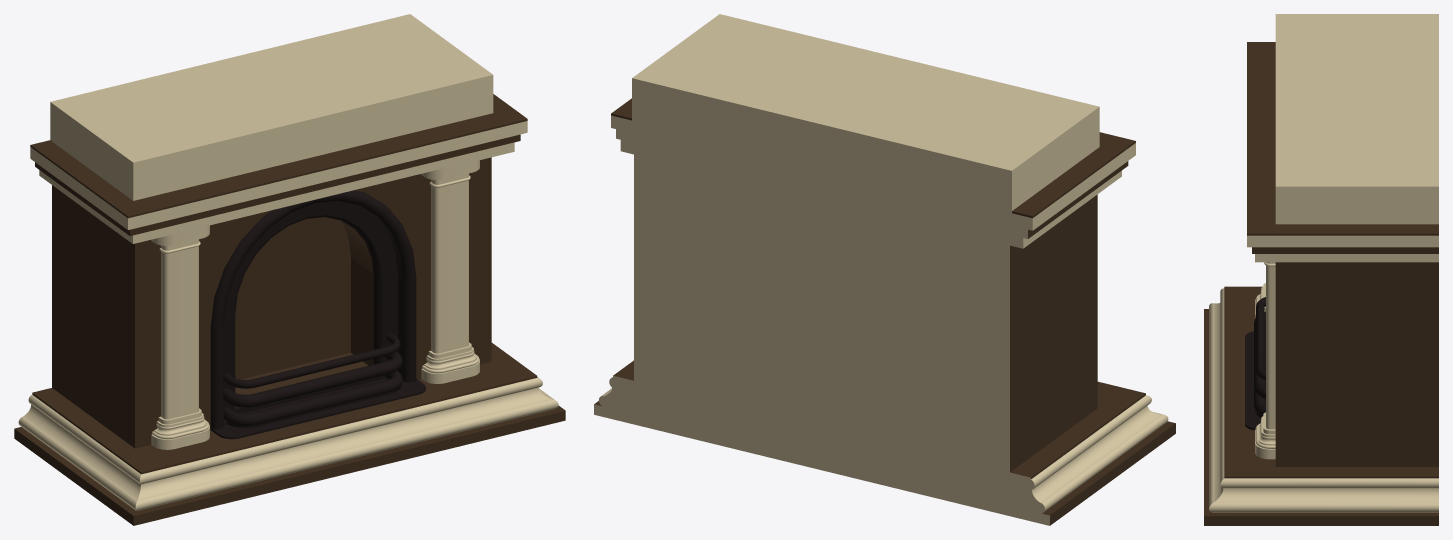
Rendered from antique_fireplace.glb.
3 views of the same model, side by side, from view 1: azimuth 30°, elevation 25°; view 2: azimuth 150°, elevation 25°; view 3: azimuth 270°, elevation 25° (orthographic). The views are drawn at different scales.
Parts seen in each view (by area): view 1: Material2 (×5); view 2: Material2 (×4); view 3: Material2 (×5).
Boxes of the visible parts, x1=… form: Material2 (×5): x1=14, y1=14, x2=565, y2=525; Material2 (×4): x1=594, y1=14, x2=1175, y2=525; Material2 (×5): x1=1204, y1=14, x2=1438, y2=525.
Size of the model in its own units: 94.49 by 68.5 by 45.28.
